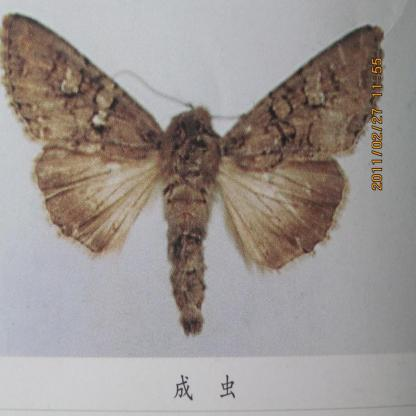armyworm: (0, 5, 384, 341)
